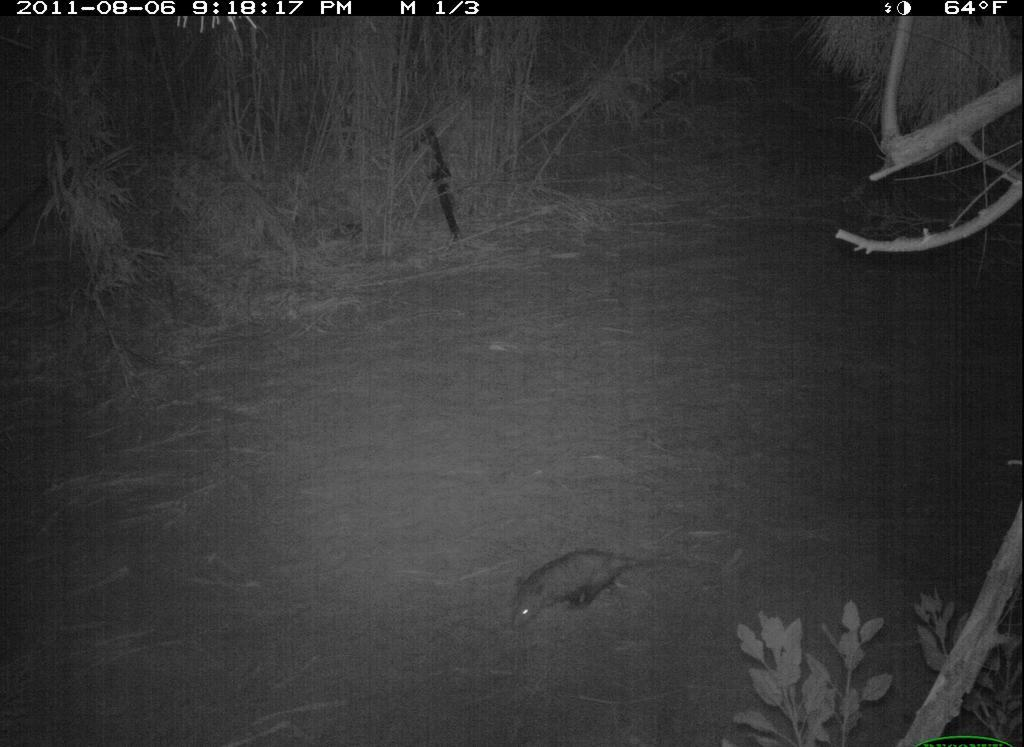opossum: (511, 550, 711, 630)
